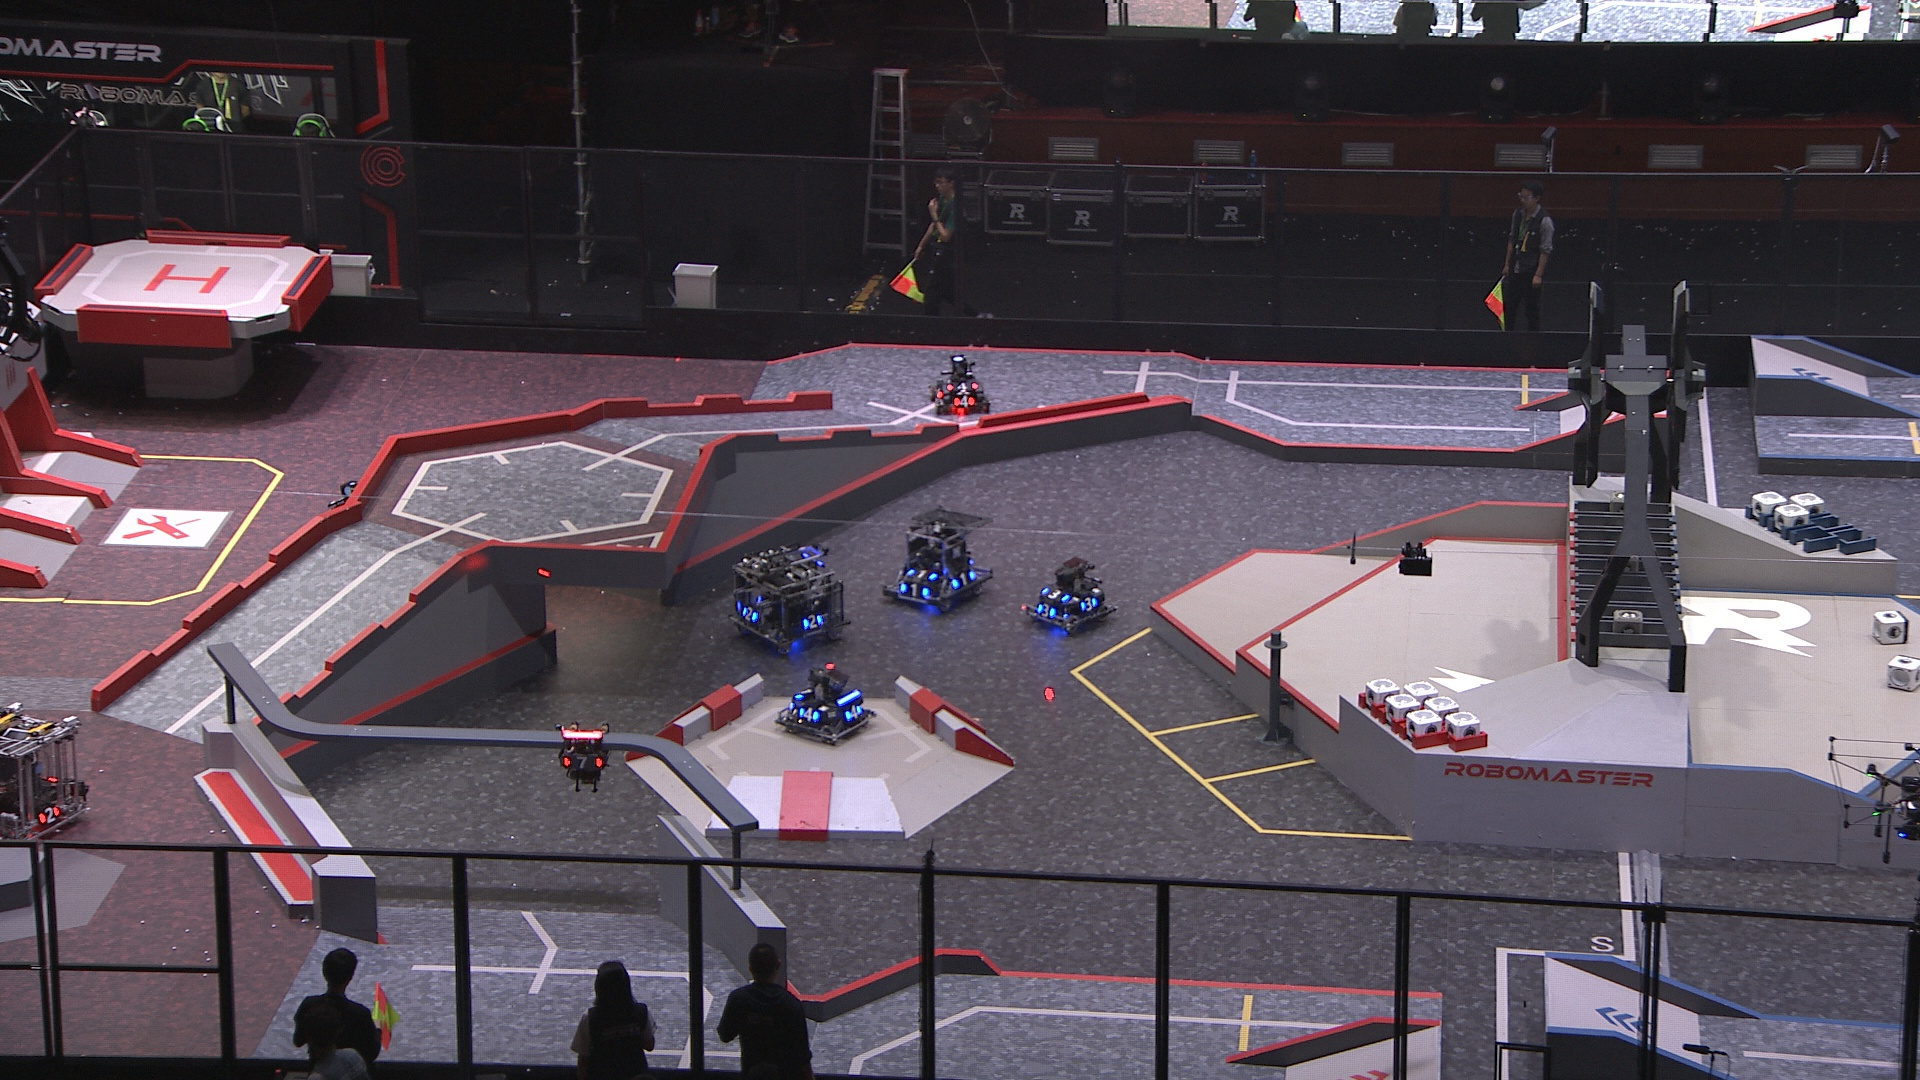armor: (560, 752, 603, 769), (898, 580, 932, 599), (36, 804, 63, 827), (949, 570, 977, 589), (907, 567, 940, 582), (740, 603, 760, 626), (1044, 585, 1069, 603), (844, 703, 865, 723), (794, 705, 818, 723), (800, 613, 822, 632), (1034, 603, 1058, 618), (949, 381, 977, 394), (794, 684, 814, 700), (953, 394, 975, 407), (1081, 597, 1097, 613), (932, 385, 944, 401)
car: (728, 543, 851, 655), (880, 512, 996, 615), (775, 665, 876, 742), (1025, 551, 1116, 636), (320, 479, 405, 553), (931, 353, 992, 419)
watcher: (553, 723, 612, 790)
